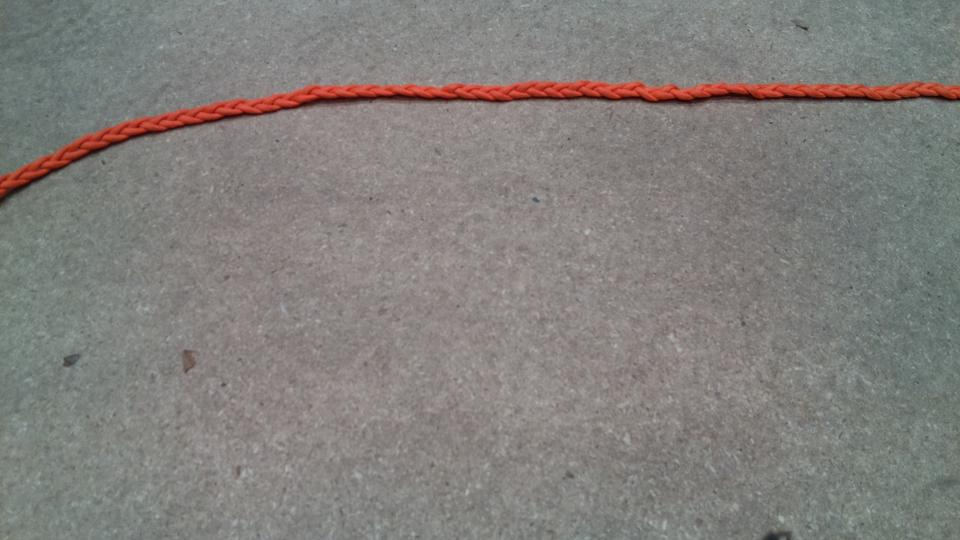rope: (1, 73, 959, 214)
